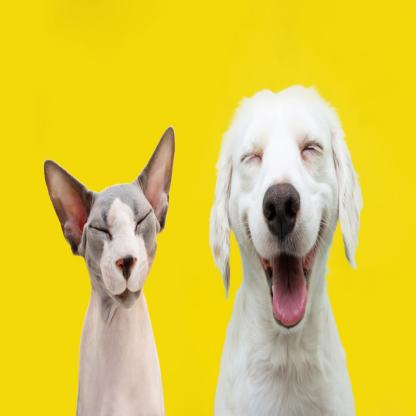cat: (27, 95, 192, 334)
dog: (208, 73, 381, 344)
